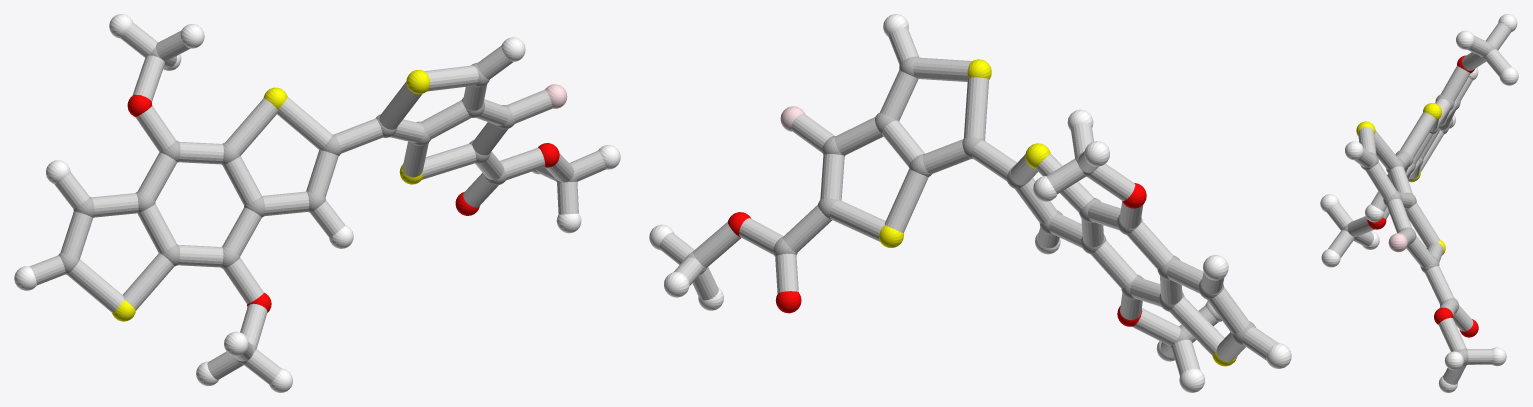
Rendered from color.glb.
3 views of the same model, side by side, from view 1: azimuth 30°, elevation 25°; view 2: azimuth 150°, elevation 25°; view 3: azimuth 270°, elevation 25° (orthographic). The views are drawn at different scales.
Parts seen in each view (by area): view 1: grp15205, grp8689, grp1, grp7241, grp13395; view 2: grp15205, grp8689, grp1, grp7241, grp13395; view 3: grp15205, grp8689, grp1, grp13395, grp7241, grp14843.
Part boxes in pixels (x1,y1,x2,y2): grp15205: (29,22,606,384); grp8689: (14,14,620,392); grp1: (58,46,577,364); grp7241: (112,70,429,321); grp13395: (127,94,559,312); grp15205: (659,27,1278,375); grp8689: (649,14,1291,392); grp1: (684,56,1255,348); grp7241: (879,59,1237,366); grp13395: (728,183,1146,326); grp15205: (1326,22,1511,384); grp8689: (1320,14,1518,392); grp1: (1342,44,1496,365); grp13395: (1367,55,1478,337); grp7241: (1356,103,1445,255); grp14843: (1388,233,1407,252).
Bounding box in the file's own units: 17.03 × 8.14 × 6.22.
